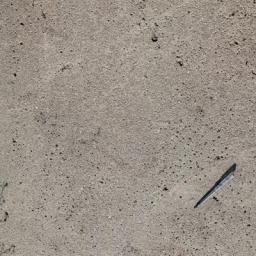FOD: (189, 166, 238, 214)
